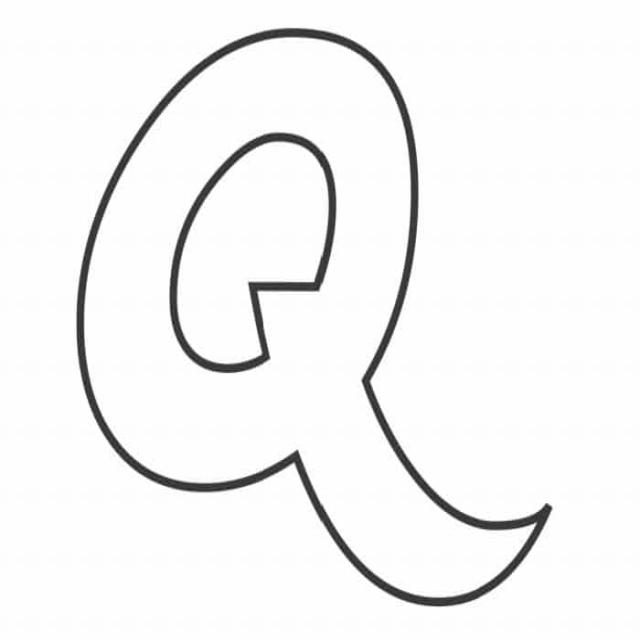Q: (38, 11, 581, 624)
